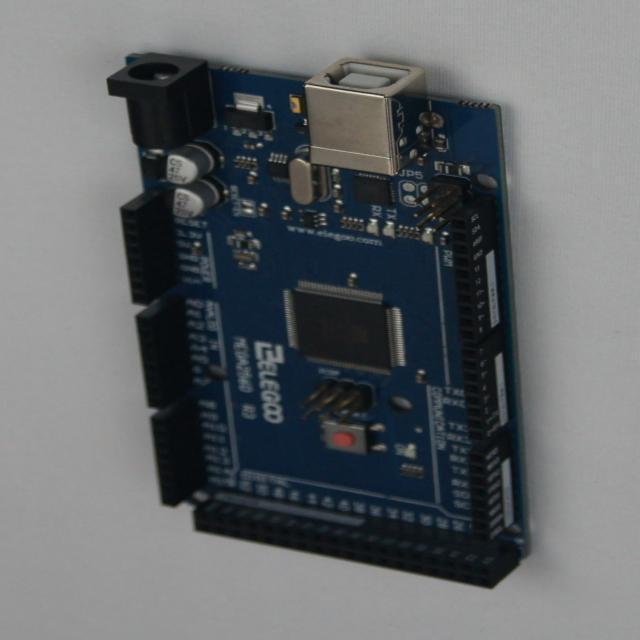Arduino Mega 2560 -Blue-: (108, 53, 528, 587)
